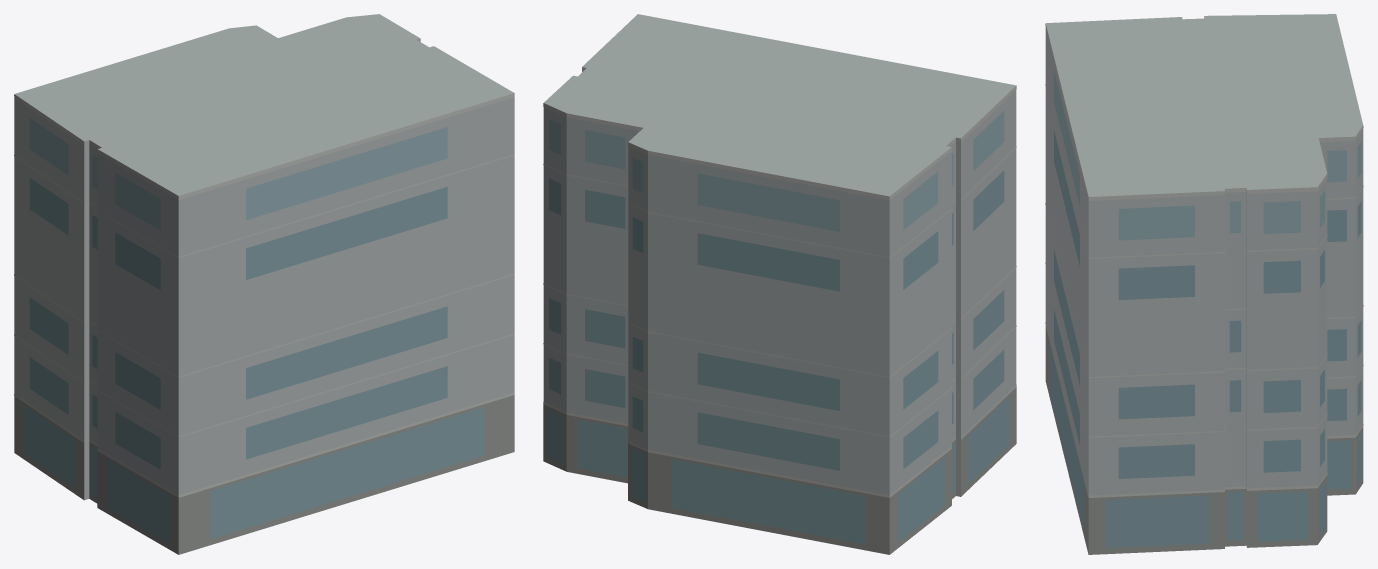
File: survey-upis-32581953.glb
3 renders of one model, left to right at view 1: azimuth 30°, elevation 25°; view 2: azimuth 150°, elevation 25°; view 3: azimuth 270°, elevation 25°, orthographic.
Parts seen in each view (by area): view 1: survey-upis-32581953.tmp; view 2: survey-upis-32581953.tmp; view 3: survey-upis-32581953.tmp.
Boxes of the visible parts, x1,y1,x2,y2 form: survey-upis-32581953.tmp: [14, 14, 514, 554]; survey-upis-32581953.tmp: [543, 14, 1016, 554]; survey-upis-32581953.tmp: [1045, 14, 1363, 554].
Bounding box in the file's own units: 23.42 × 21.33 × 17.18.
